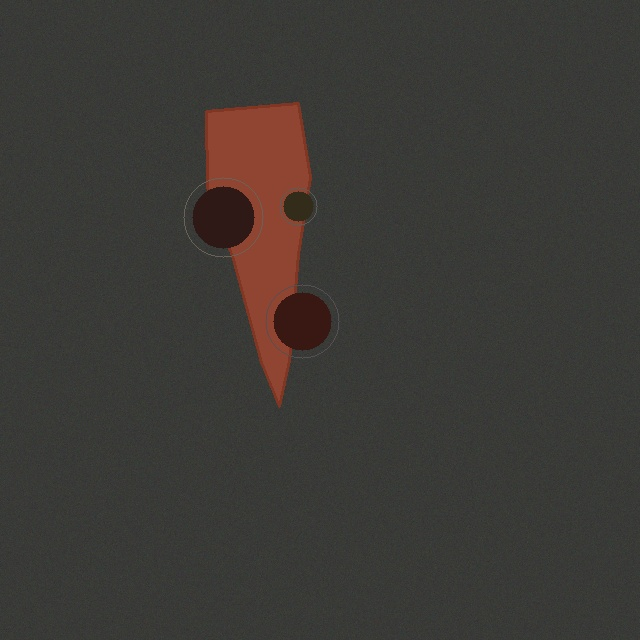Rotten_Carrot: (198, 95, 318, 414)
